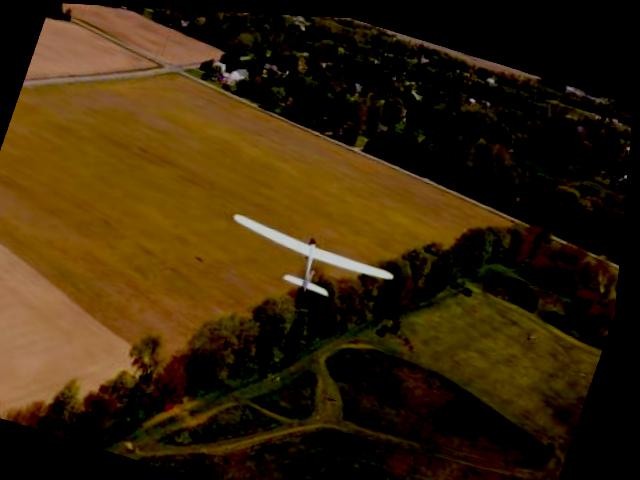uav: (207, 192, 415, 327)
